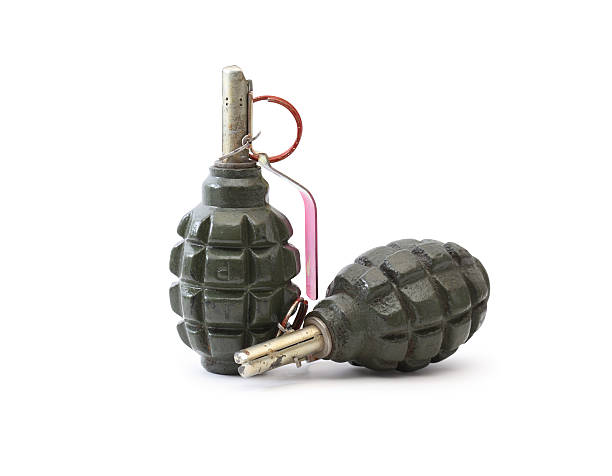e1: (167, 61, 319, 372)
